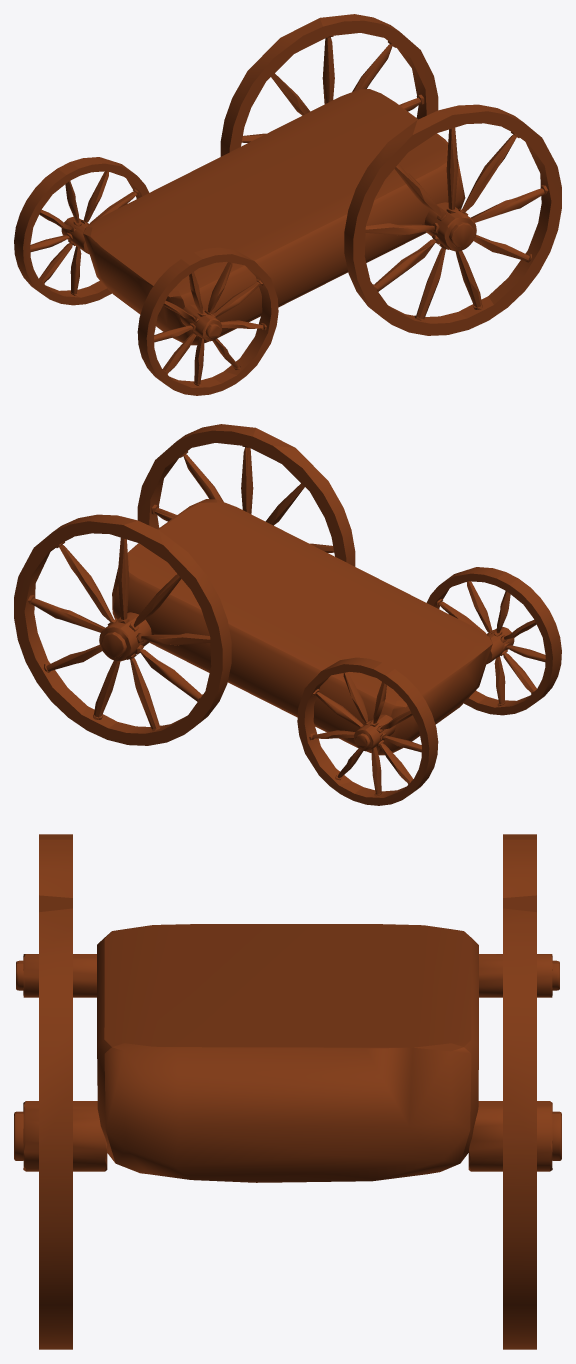
The model's file is canonv3rwheels.fbx.
3 renders of one model, top to bottom at view 1: azimuth 30°, elevation 25°; view 2: azimuth 150°, elevation 25°; view 3: azimuth 270°, elevation 25°, orthographic. The views are drawn at different scales.
Visible parts, largest first — view 1: canonv3wheels; view 2: canonv3wheels; view 3: canonv3wheels.
Part boxes in pixels (left/top/right/bottom): canonv3wheels: left=14, top=14, right=561, bottom=395; canonv3wheels: left=14, top=424, right=561, bottom=805; canonv3wheels: left=14, top=834, right=561, bottom=1349.
Bounding box in the file's own units: 549 × 278 × 334.
1 material, 1 textured.
